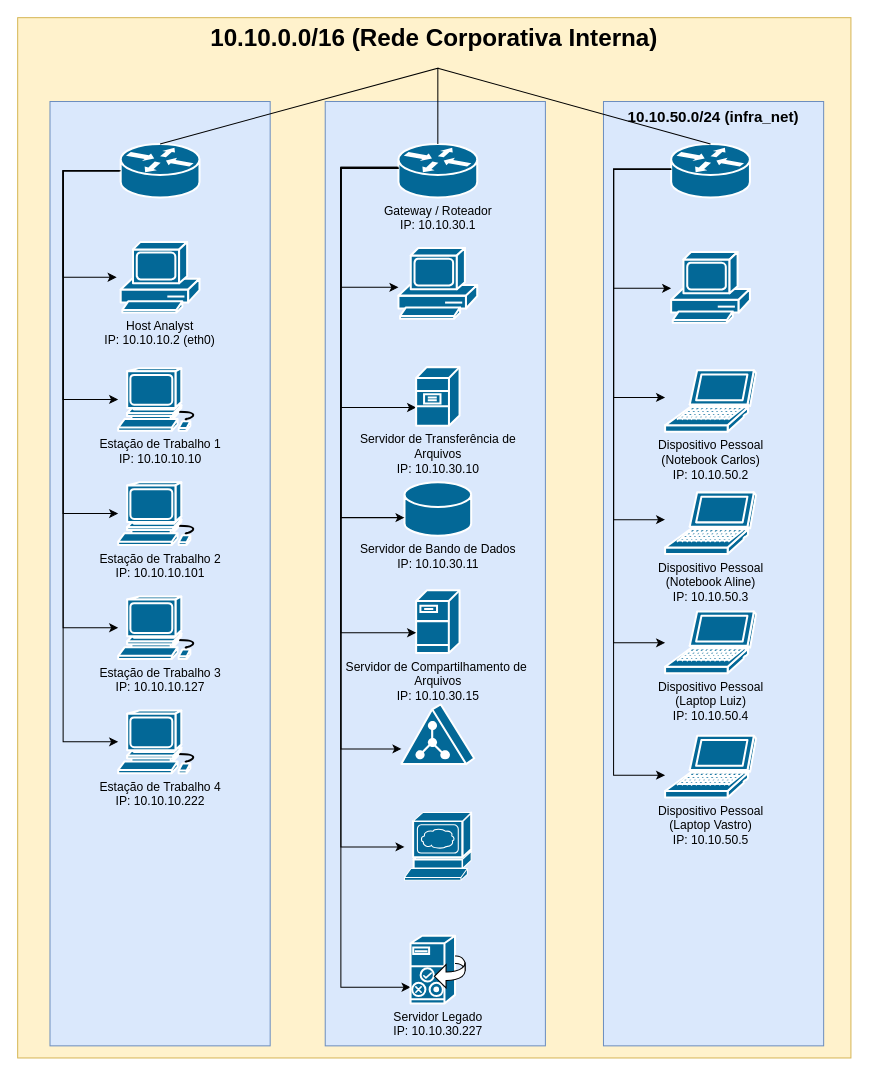
This 869x1076 diagram has some shape labels left out. The box of each missing label's shape, as (x1, y1, x2, y2) in pixels:
10.10.10.0/24 (corp_net): (49, 100, 270, 1046)
10.10.30.0/24 (guest_net): (324, 100, 545, 1046)
Gateway / Roteador IP: 10.10.10.1: (119, 142, 200, 198)
Gateway / Roteador IP: 10.10.50.1: (670, 142, 750, 198)
Host Analyst eth2 - 10.10.50.6: (670, 250, 750, 323)
Host Analyst IP: 10.10.30.2 (eth1): (397, 246, 478, 319)
Servidor de Diretório IP: 10.10.30.17: (400, 703, 475, 765)
Servidor Web / Monitoramento Redes IP: 10.10.30.117: (403, 811, 472, 881)
